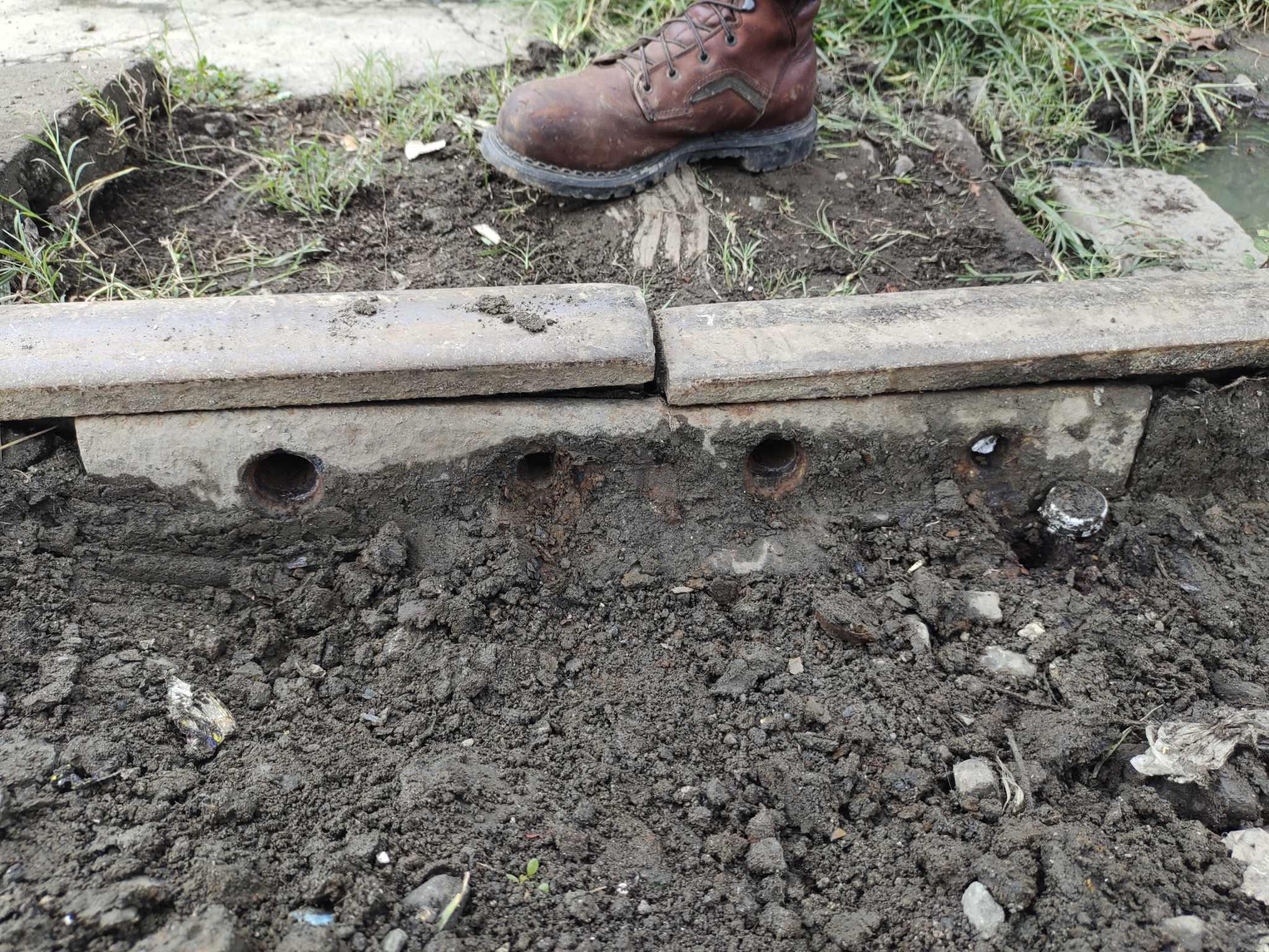railway-gap: (560, 266, 750, 436)
